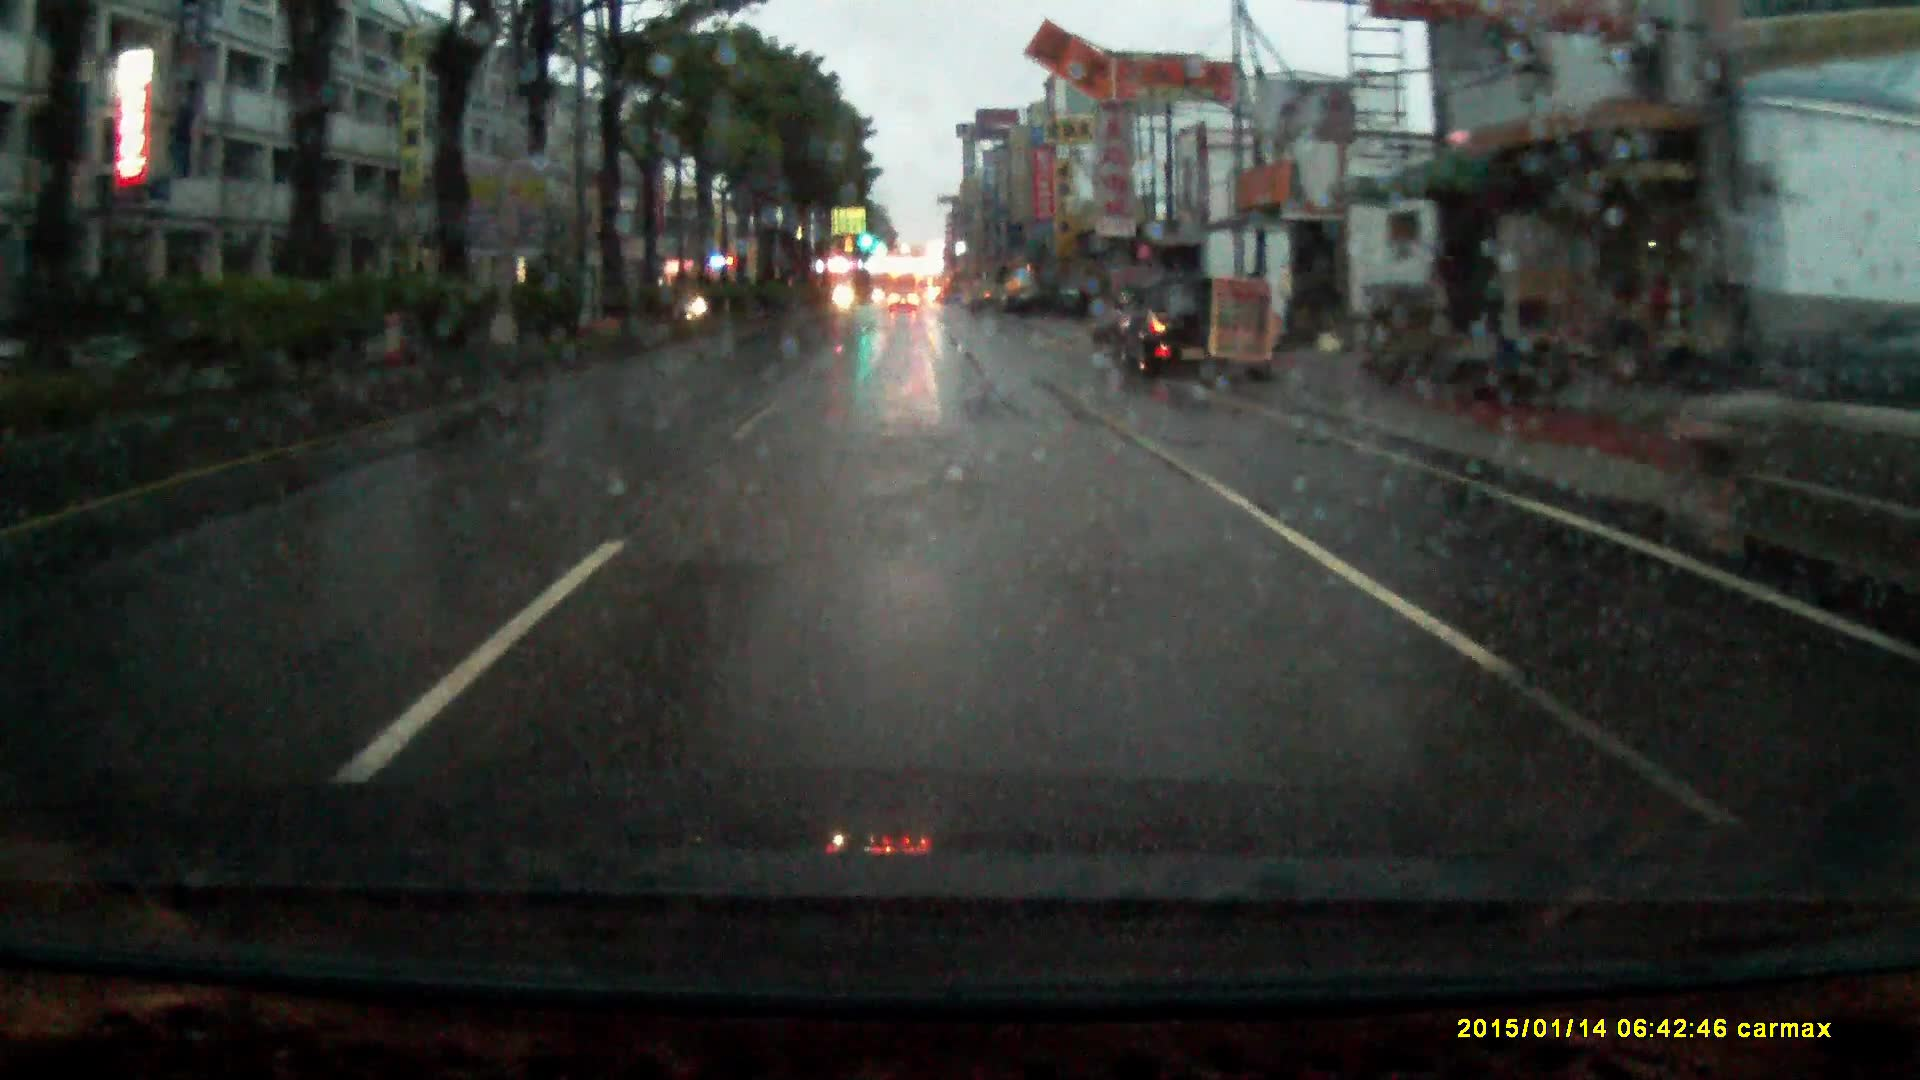vehicle: (1683, 365, 1920, 607), (1098, 278, 1250, 388), (890, 294, 919, 319)
